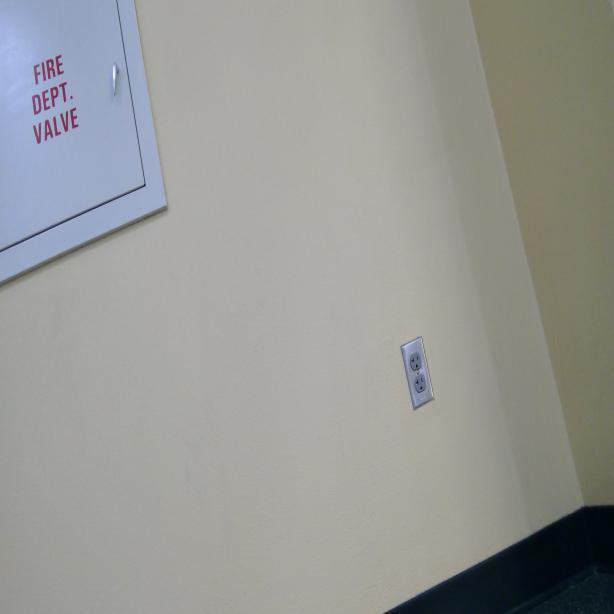typeb: (410, 350, 421, 370), (414, 374, 426, 392)
